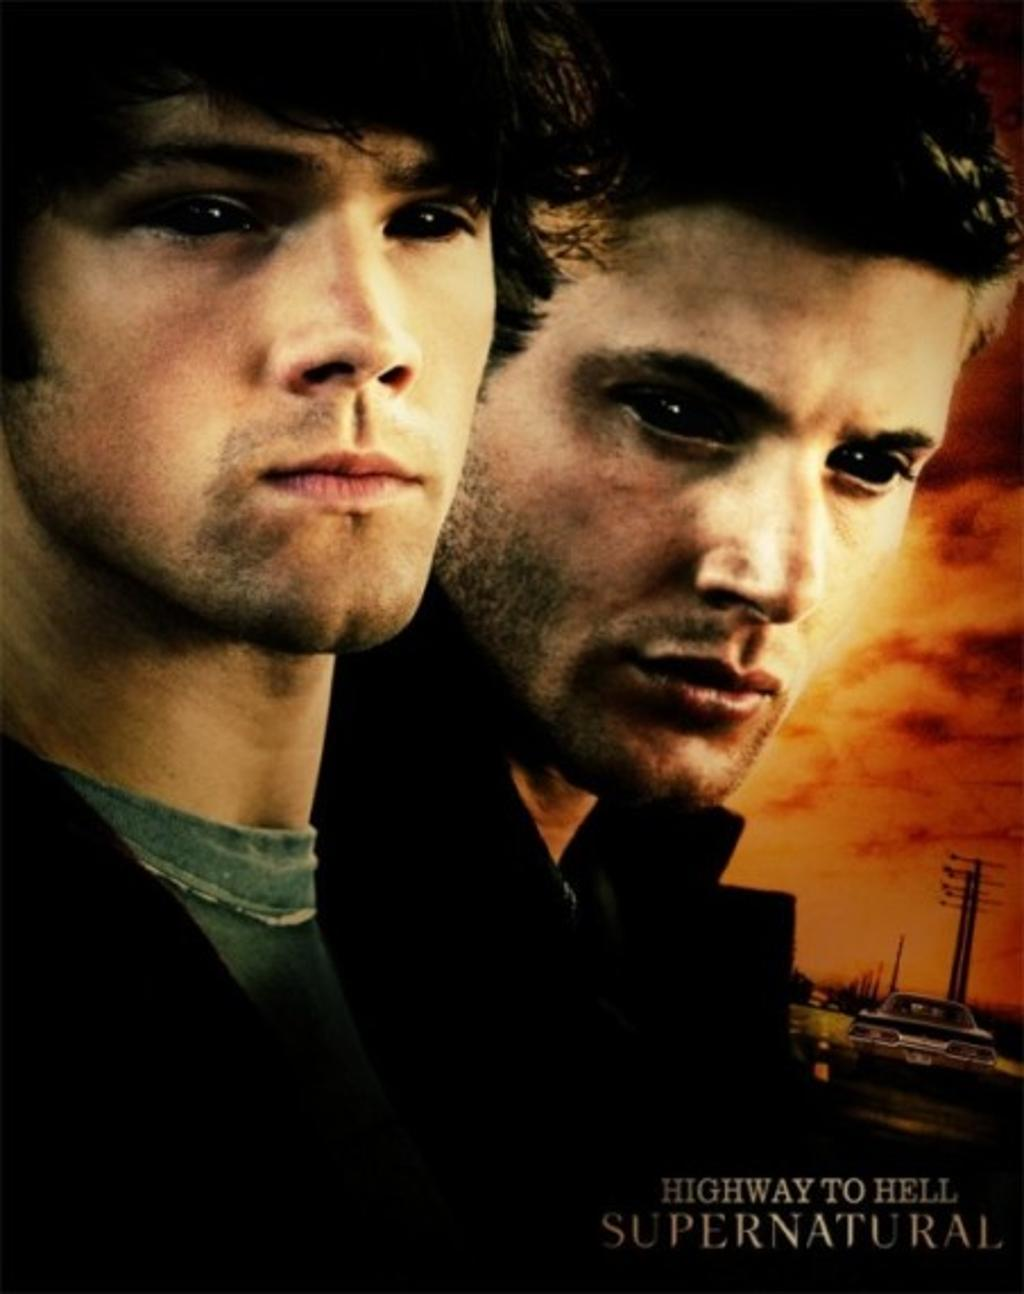face: (448, 180, 969, 805), (15, 23, 490, 637)
